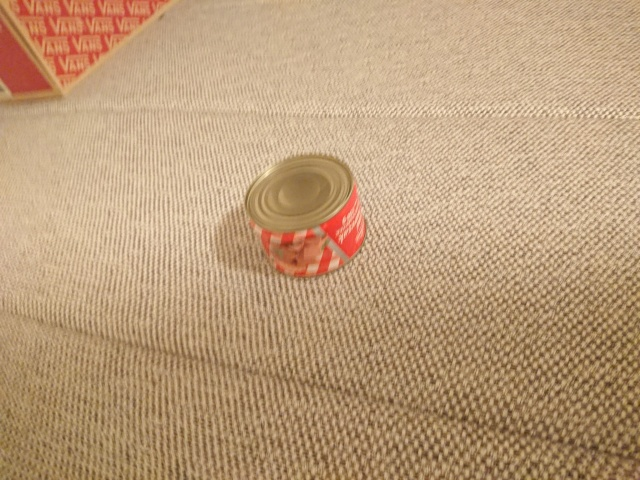Podravka Luncheon Meat 150g: (240, 149, 371, 282)
